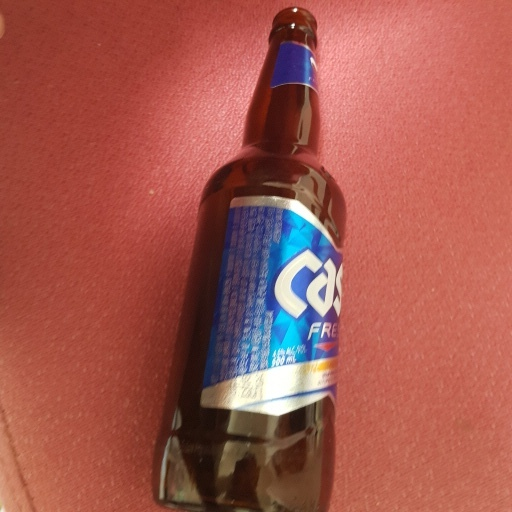Glass_1: (145, 3, 350, 512)
